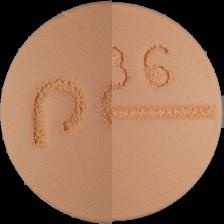49884-236: (0, 0, 224, 224)
